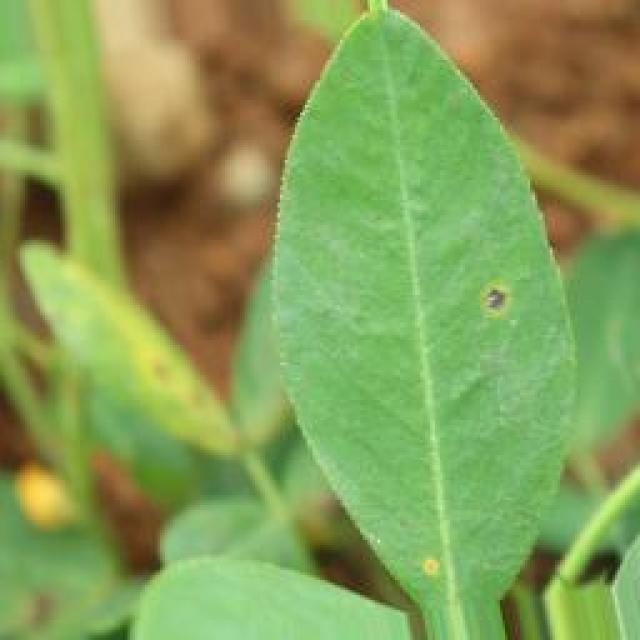Sigatoka: (444, 239, 536, 367), (400, 534, 441, 614)
